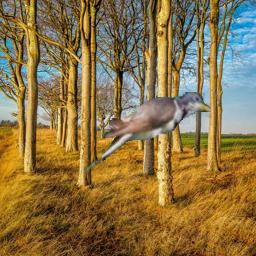Cuckoo: (81, 92, 211, 176)
